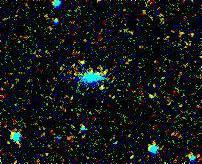star: (87, 72, 117, 102)
